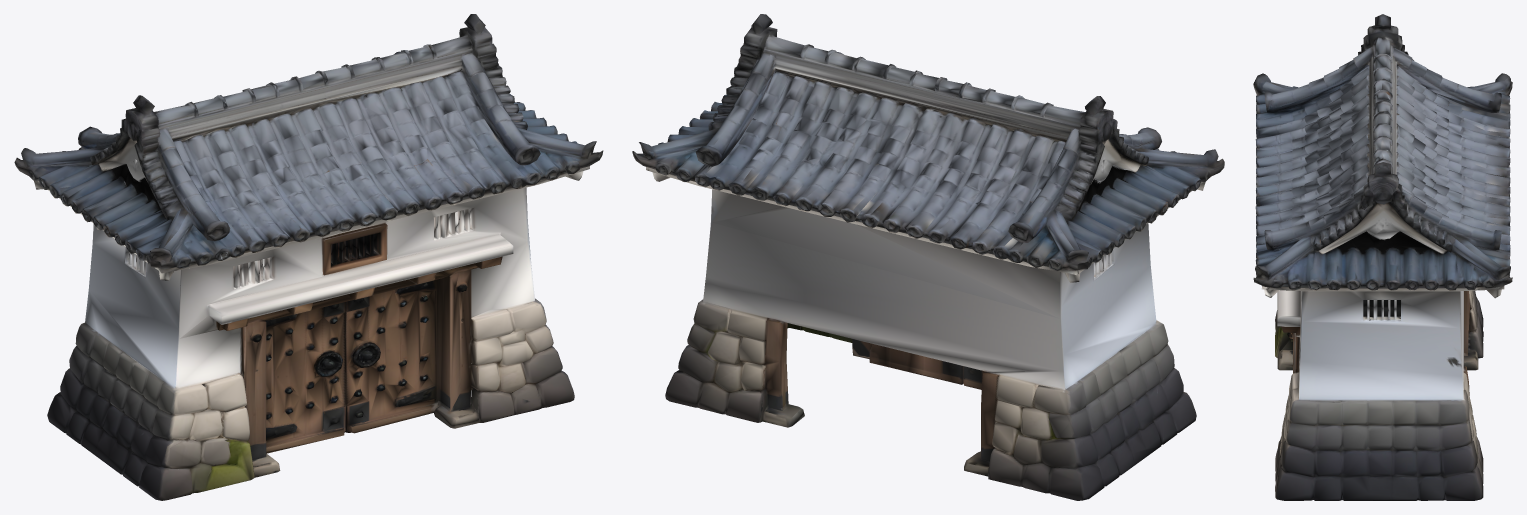
File: main_gate_yaguramon.glb
The picture shows the model from 3 angles, left to right: view 1: azimuth 30°, elevation 25°; view 2: azimuth 150°, elevation 25°; view 3: azimuth 270°, elevation 25°; orthographic projection. The views are drawn at different scales.
Parts seen in each view (by area): view 1: node_0; view 2: node_0; view 3: node_0.
Part boxes in pixels (<box>): node_0: <box>14,14,603,500</box>; node_0: <box>632,14,1224,500</box>; node_0: <box>1253,14,1512,500</box>.
Bounding box in the file's own units: 14.67 × 10.91 × 8.
Materials: 1 (1 with a texture image).
